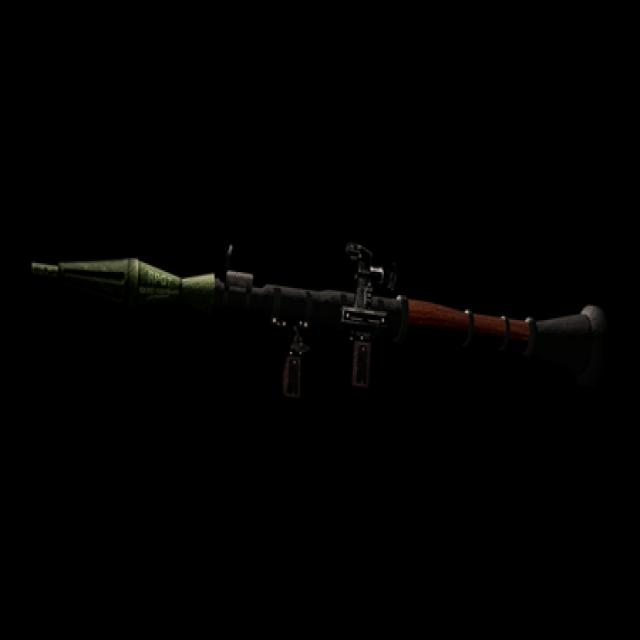bazooka: (10, 198, 640, 382)
